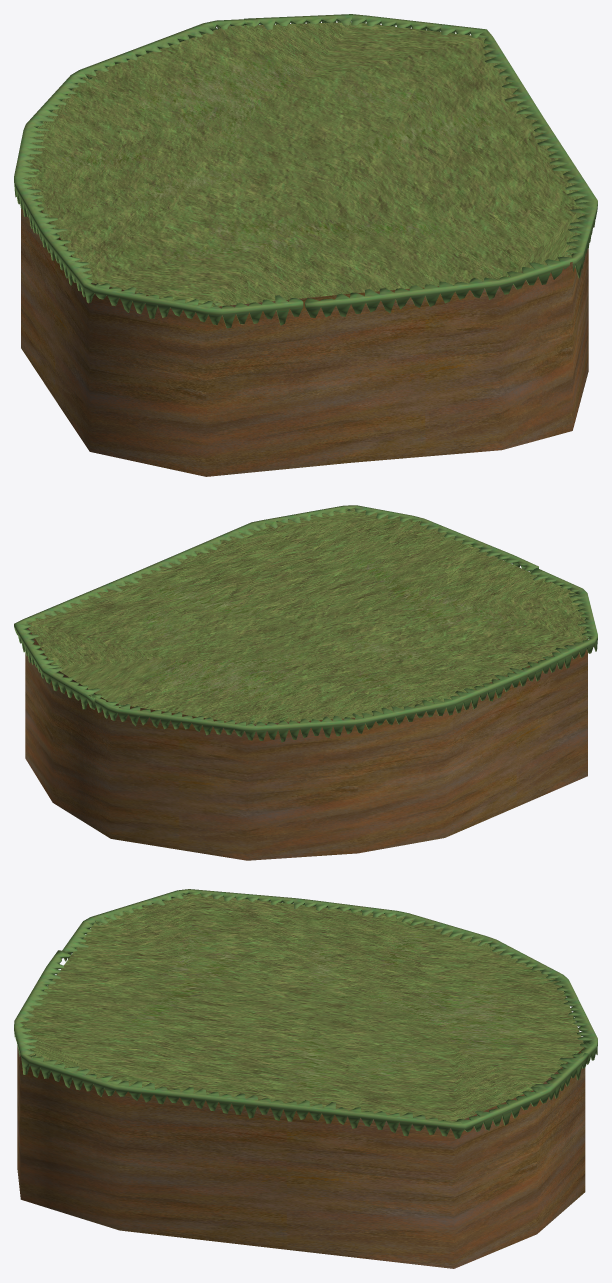
Rendered from One_level_01.FBX.
3 renders of one model, top to bottom at view 1: azimuth 30°, elevation 25°; view 2: azimuth 150°, elevation 25°; view 3: azimuth 270°, elevation 25°, orthographic. The views are drawn at different scales.
Visible parts, largest first — view 1: Box004, Box006, Box005; view 2: Box004, Box005, Box006; view 3: Box004, Box006, Box005.
Part boxes in pixels (x1,y1,x2,y2): Box004: [21, 22, 588, 476]; Box006: [244, 14, 597, 317]; Box005: [14, 18, 303, 328]; Box004: [25, 508, 587, 860]; Box005: [88, 568, 597, 742]; Box006: [14, 505, 538, 709]; Box004: [17, 893, 585, 1268]; Box006: [14, 950, 588, 1138]; Box005: [62, 889, 597, 1064].
Size of the model in its own units: 5.17 by 1.5 by 5.4.
